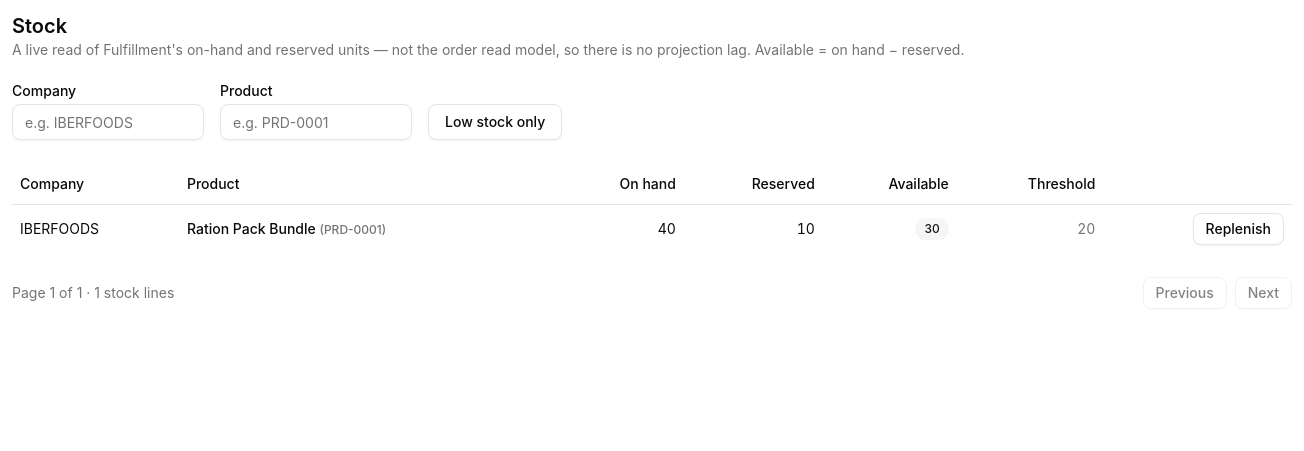
Test: StockView — replenish is a delta › sends the typed amount as units to ADD (never the resulting level), and says so on the form
Click the button with test id "replenish-button". click: (1238, 228)
box: x1=1193 y1=212 x2=1284 y2=244
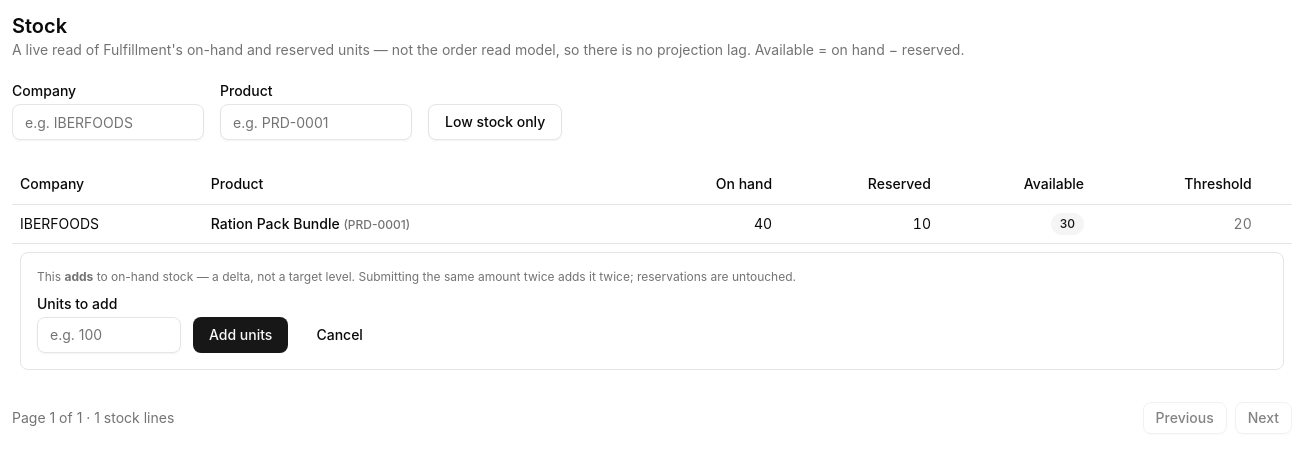
Check: the element with test id "replenish-form" shows "This adds to on-hand stock — a delta, not a target level.", box x1=20 y1=252 x2=1284 y2=370
Type "110" into the field with test id "replenish-units-input". click: (109, 334)
box: x1=37 y1=316 x2=181 y2=352
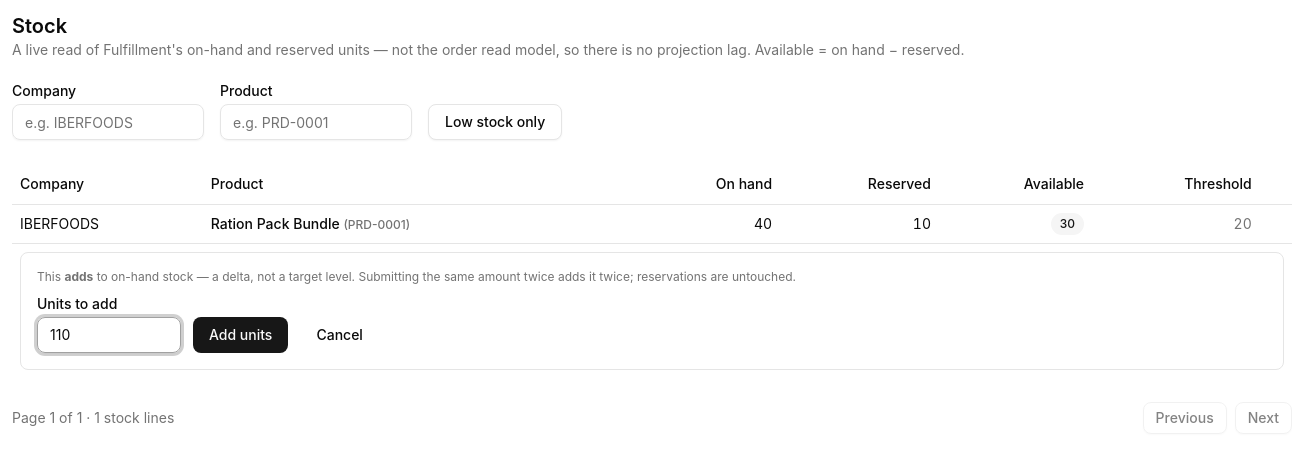
Click the button with test id "submit-replenish-button". click: (241, 334)
box: x1=193 y1=316 x2=288 y2=352
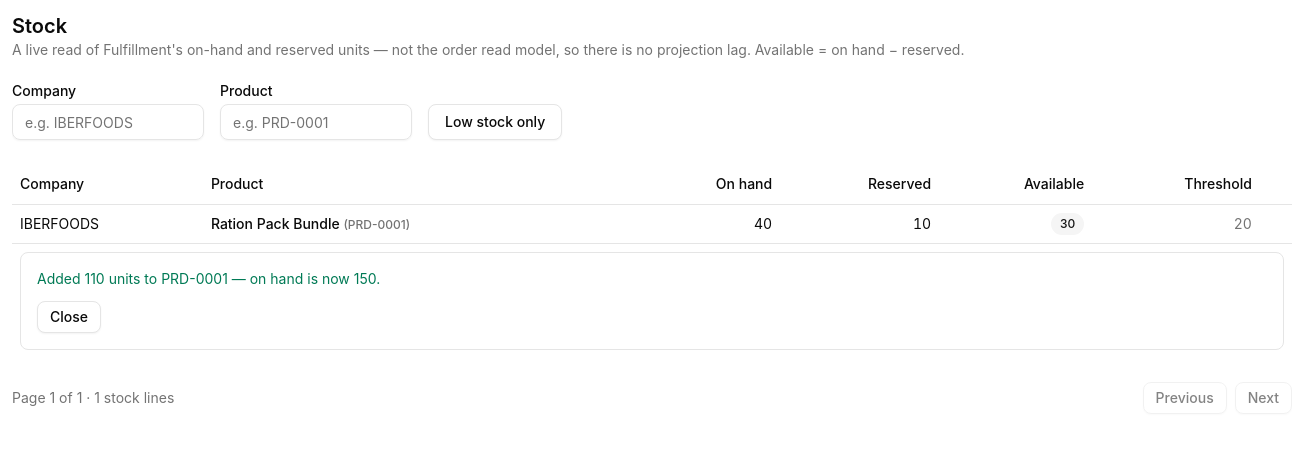
Check: the text with test id "replenish-outcome" reads "Added 110 units to PRD-0001 — on hand is now 150.", box x1=37 y1=270 x2=380 y2=286
